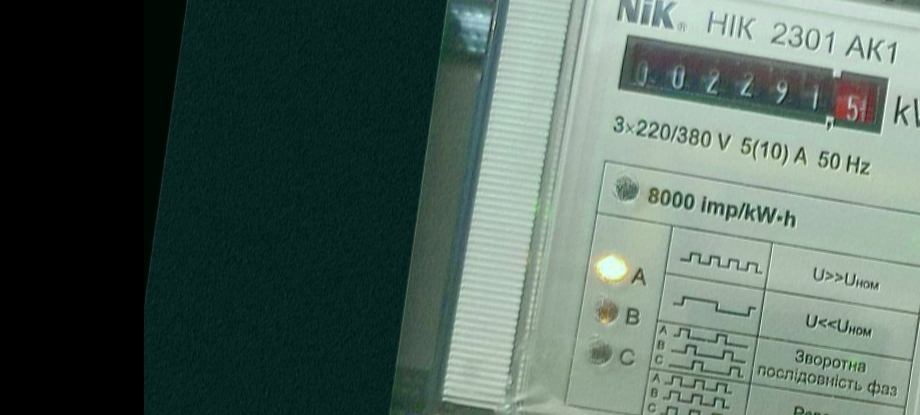0: (630, 54, 652, 86), (667, 60, 687, 91)
1: (804, 78, 823, 114)
2: (702, 65, 722, 96), (737, 67, 755, 98)
5: (842, 90, 862, 122)
9: (770, 74, 790, 106)
screen: (610, 27, 895, 141)
